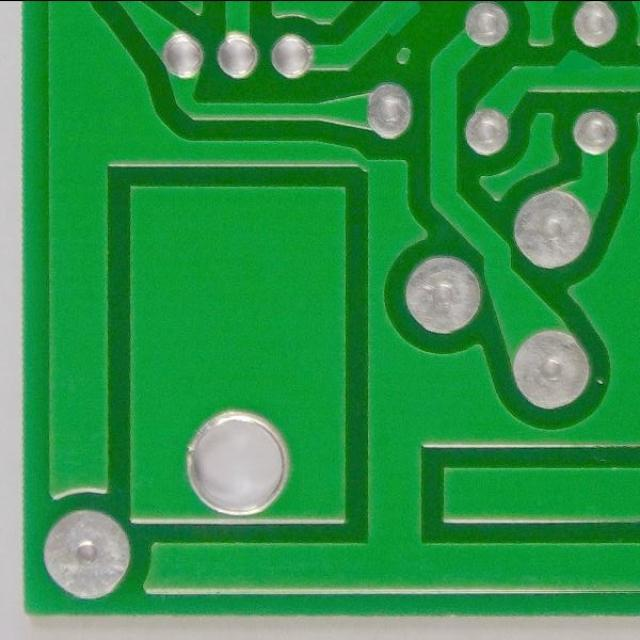spur: (548, 47, 608, 88), (382, 1, 428, 44)
